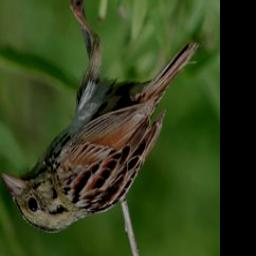Sparrow: (0, 0, 200, 235)
